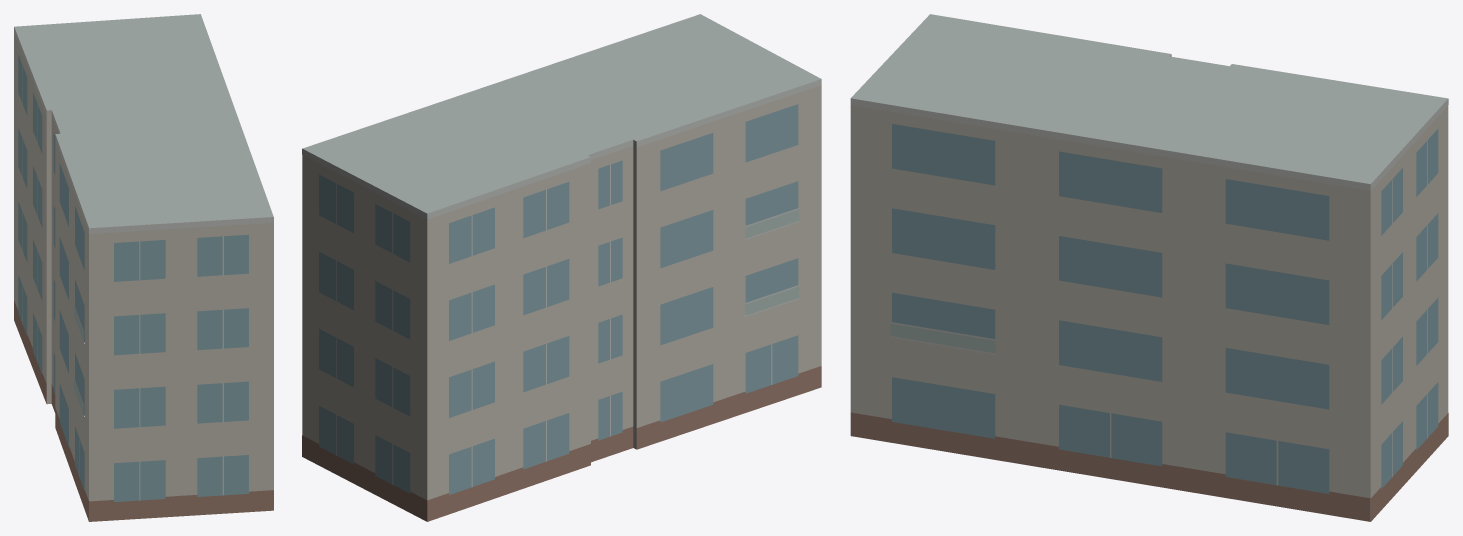
Rendered from survey-upis-32971083.glb.
3 views of the same model, side by side, from view 1: azimuth 30°, elevation 25°; view 2: azimuth 150°, elevation 25°; view 3: azimuth 270°, elevation 25° (orthographic). The views are drawn at different scales.
Parts seen in each view (by area): view 1: survey-upis-32971083.tmp; view 2: survey-upis-32971083.tmp; view 3: survey-upis-32971083.tmp.
Boxes of the visible parts, x1,y1,x2,y2 form: survey-upis-32971083.tmp: (14,14,273,521); survey-upis-32971083.tmp: (302,14,821,521); survey-upis-32971083.tmp: (850,14,1448,521).
Size of the model in its own units: 13.52 by 12.5 by 20.07.
